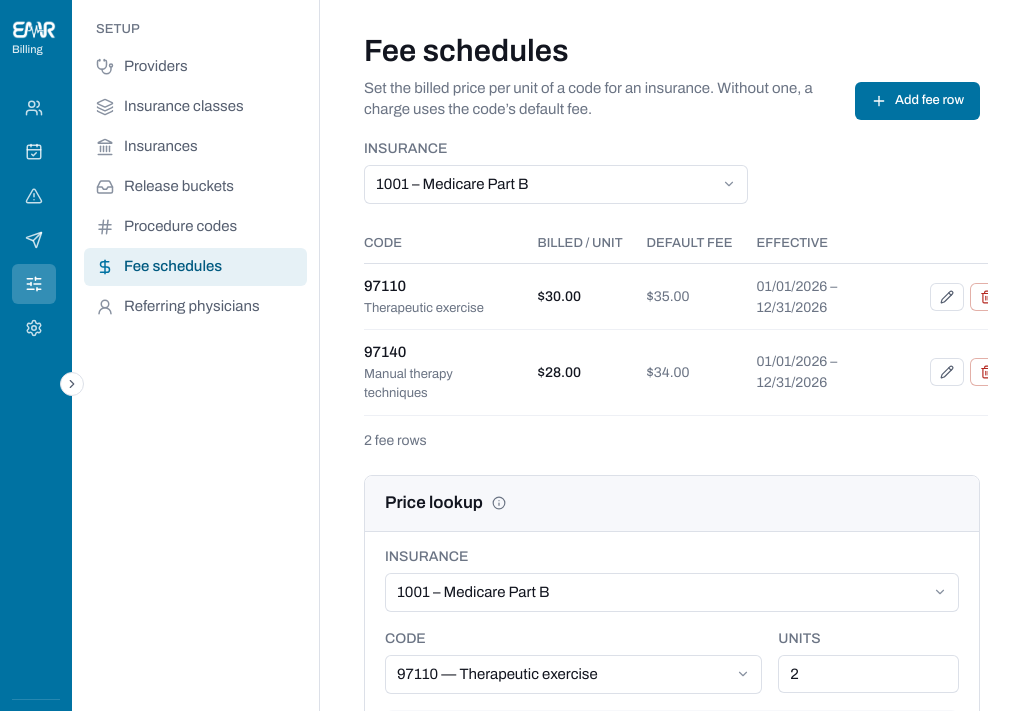
Test: Setup → Fee schedules › edits a row as the server has it now, its code fixed
Click the button named "Edit the 97140 (from 01/01/2026) row" at (947, 372), box [930, 358, 964, 386]
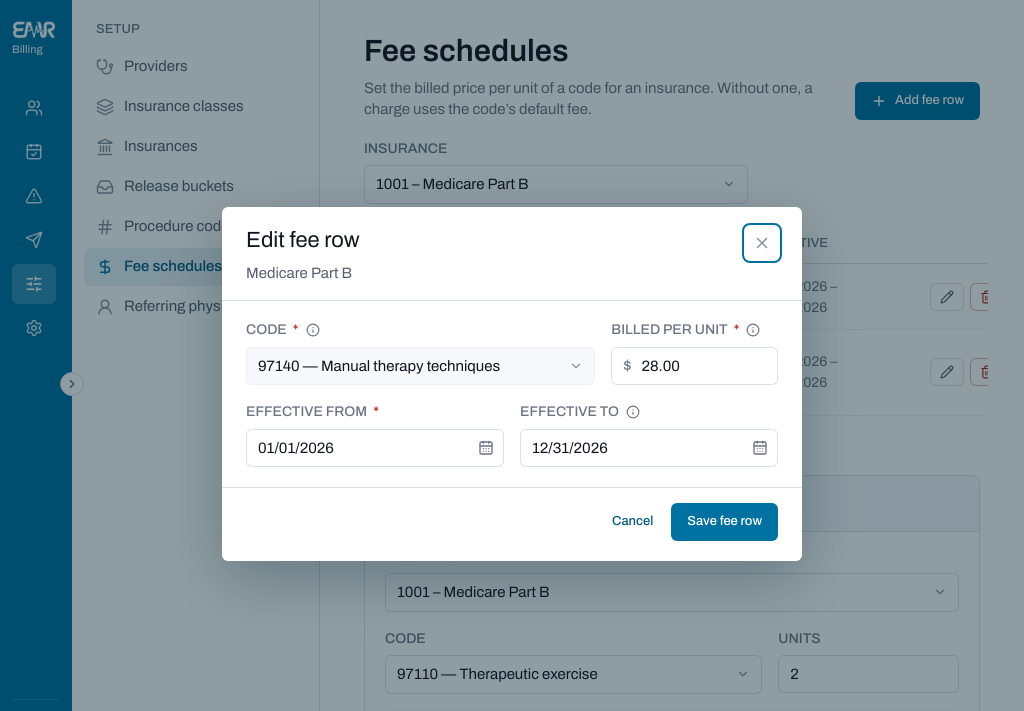
Now the field labelled "Billed per unit *" holds "28.00"
Replace the text in the field labelled "Billed per unit *" with "29.5" at (704, 366), box [642, 347, 766, 385]
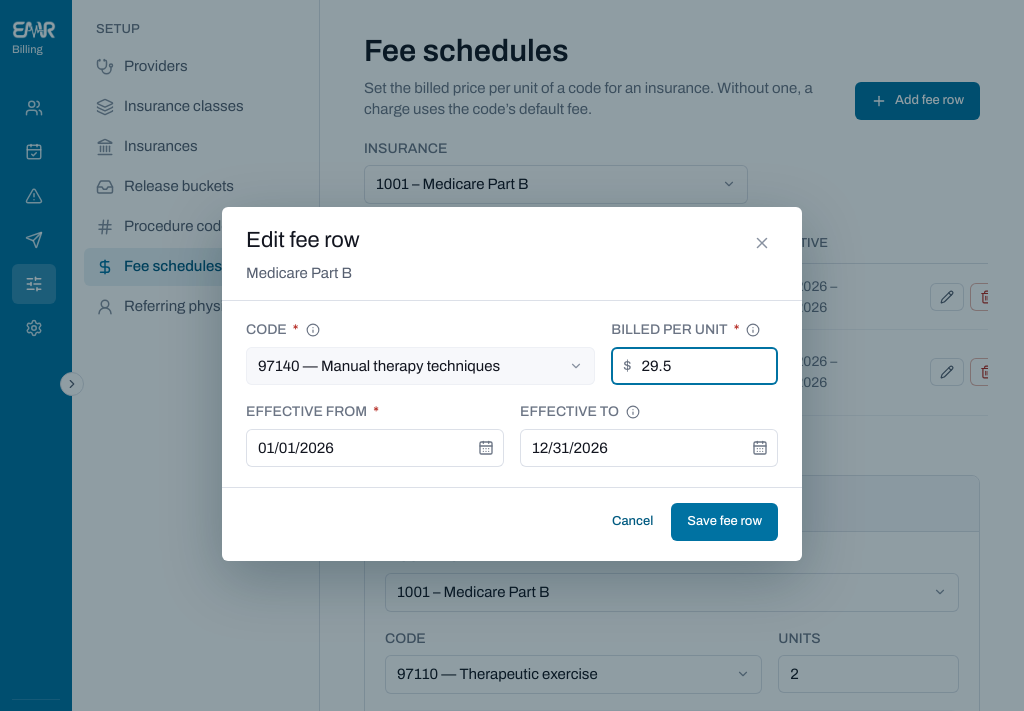
Click the button "Save fee row" at (725, 522), box [671, 503, 778, 541]
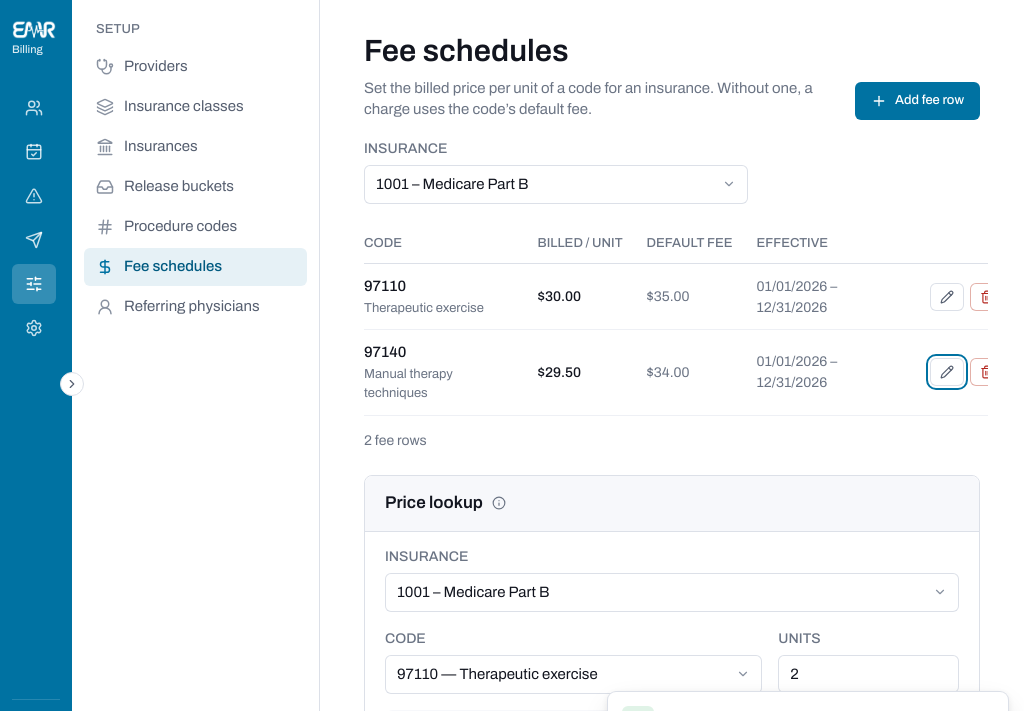
Now the dialog is gone
Now the table named "Fee rows for Medicare Part B" shows "$29.50", box [538, 365, 581, 380]
